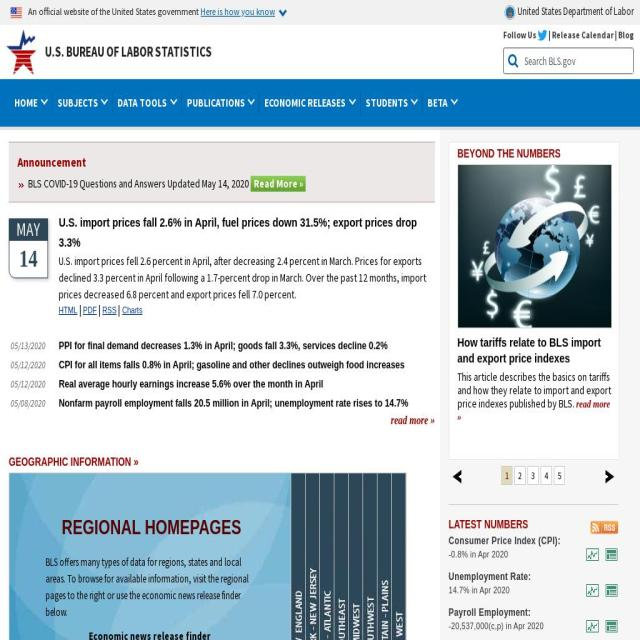button: (333, 472, 618, 640), (290, 472, 574, 640), (305, 472, 589, 640), (319, 472, 603, 640), (348, 472, 632, 640), (362, 472, 640, 640), (377, 472, 640, 640), (391, 472, 640, 640), (6, 29, 372, 64), (61, 514, 241, 539), (500, 5, 634, 20), (264, 92, 355, 114), (448, 534, 561, 548), (187, 92, 254, 114), (118, 92, 176, 114), (365, 92, 417, 114), (201, 5, 286, 18), (57, 92, 107, 114), (448, 570, 531, 583), (448, 606, 531, 619), (250, 175, 306, 192), (14, 92, 47, 114), (391, 412, 435, 428), (427, 92, 457, 114), (448, 463, 468, 489), (584, 519, 618, 534), (599, 463, 618, 489), (580, 546, 600, 562), (580, 582, 600, 598), (580, 618, 600, 634), (599, 546, 618, 562), (599, 582, 618, 598), (599, 618, 618, 634), (501, 465, 513, 485), (514, 465, 526, 485), (528, 465, 540, 485), (540, 465, 552, 485), (554, 465, 566, 485)
field: (524, 49, 633, 73), (508, 54, 518, 68)
heading: (58, 214, 417, 249), (58, 336, 424, 356), (58, 355, 424, 375), (58, 374, 424, 394), (58, 394, 424, 414), (17, 153, 427, 170), (457, 334, 601, 365), (30, 628, 268, 640), (448, 517, 618, 531), (300, 334, 450, 349), (8, 454, 138, 468), (457, 146, 561, 160), (301, 146, 384, 160), (613, 334, 640, 365), (613, 146, 640, 160)
image: (333, 472, 618, 640), (290, 472, 574, 640), (305, 472, 589, 640), (319, 472, 603, 640), (348, 472, 632, 640), (362, 472, 640, 640), (377, 472, 640, 640), (391, 472, 640, 640), (300, 163, 454, 327), (457, 163, 611, 327), (613, 163, 640, 327), (590, 520, 618, 534), (586, 548, 600, 562), (586, 584, 600, 598), (586, 619, 600, 633), (605, 548, 618, 562), (605, 584, 618, 598), (605, 619, 618, 633), (10, 5, 22, 20), (504, 5, 516, 20), (537, 32, 547, 45)
link: (457, 397, 611, 422), (551, 29, 614, 64), (502, 29, 536, 64), (618, 29, 634, 64), (347, 381, 387, 394), (58, 304, 78, 315), (122, 304, 142, 315), (82, 304, 97, 315), (102, 304, 117, 315)
text: (58, 252, 435, 302), (24, 553, 275, 621), (457, 368, 611, 411), (301, 353, 453, 395), (28, 175, 250, 191), (28, 4, 201, 18), (448, 548, 618, 560), (448, 584, 618, 595), (448, 620, 618, 631), (516, 4, 634, 19), (613, 368, 640, 424), (8, 240, 48, 273), (264, 95, 348, 110), (201, 4, 275, 18), (8, 374, 59, 393), (8, 393, 59, 412), (8, 218, 48, 241), (8, 336, 59, 354), (8, 355, 59, 373), (186, 95, 247, 110), (118, 95, 170, 110), (365, 95, 410, 110), (57, 95, 100, 110), (15, 95, 40, 110), (428, 95, 450, 110), (613, 29, 618, 64), (548, 29, 552, 64), (77, 301, 83, 317), (96, 301, 102, 317), (116, 301, 122, 317)
